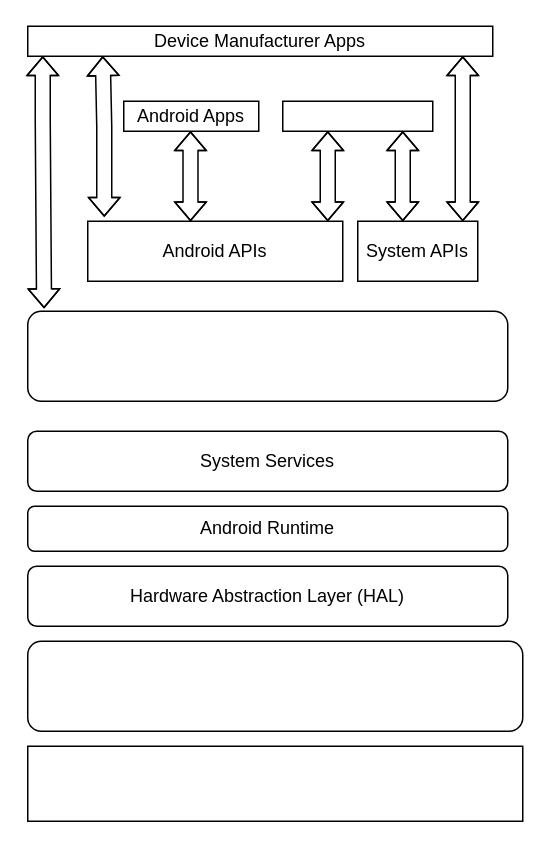
The diagram is 549 pixels wide and 848 high, and some of its shapes have lost their labels. The shapes that lost their labels are listed below. From the top down, each one's centre as x and y in pixels, then its label:
At point 357,115: "Priviledged Apps".
At point 267,355: "Android Framework".
At point 274,685: "Native Daemons & Libraries".
At point 274,783: "Linux Kernel".
